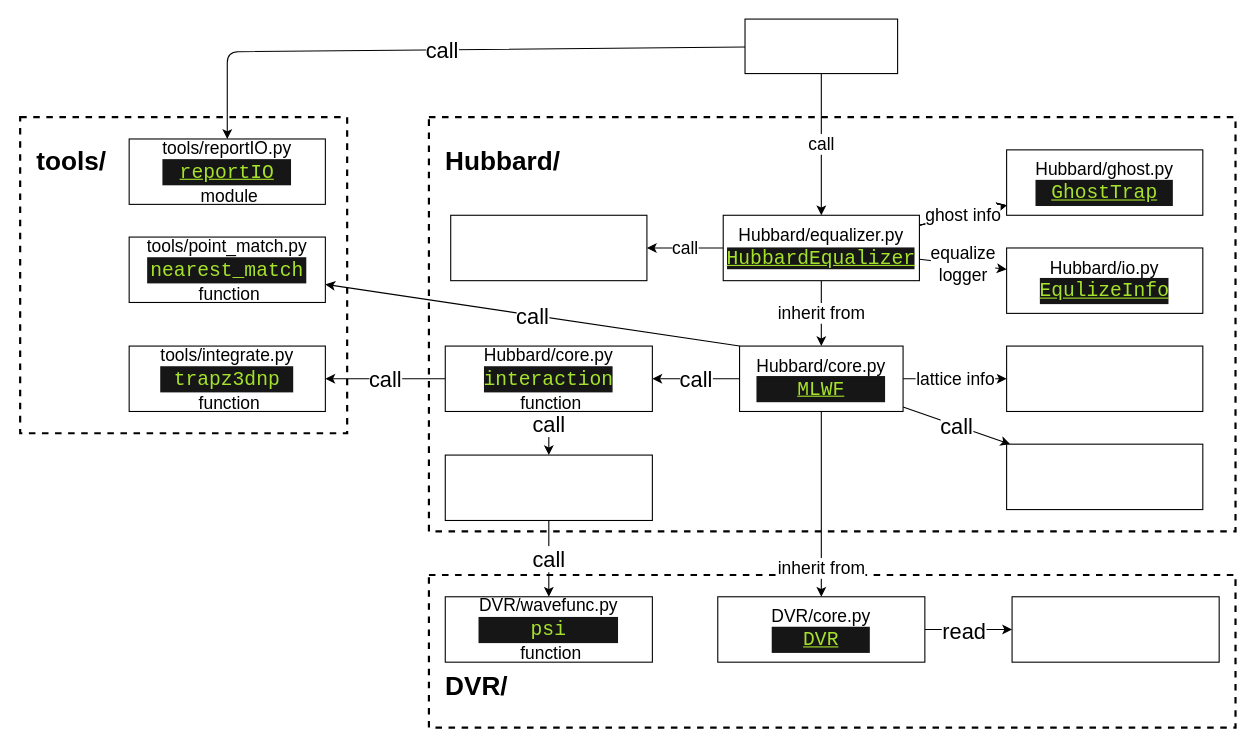
Some shapes in this 1255 by 748 pixel diagram are drawn without their labels. Each missing label, with the centre of its shape:
DVR/const.py constants: (1115,629)
Hubbard/core.py wannier_func function: (548,487)
Hubbard/eqinit.py init_w0 functions: (548,247)
Hubbard/lattice.py Lattice: (1104,378)
Hubbard/riemann.py riemann_optimize functions: (1104,476)
Hubbard_exe.py: (821,46)
